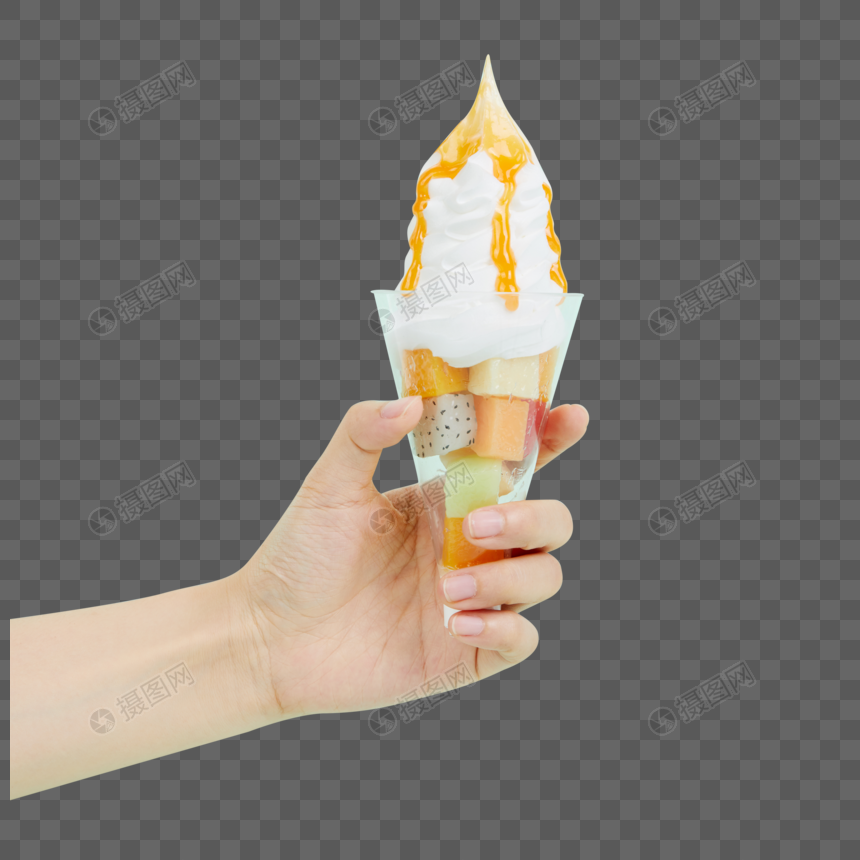no-phone: (227, 250, 595, 728)
